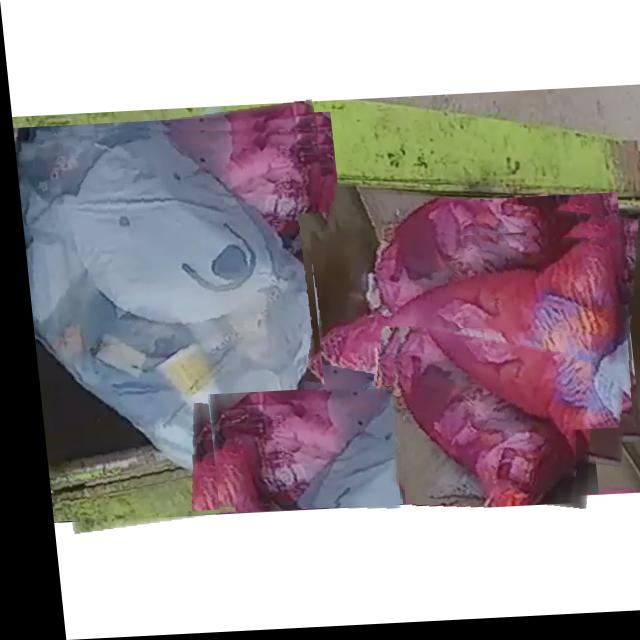other_trashbag: (12, 131, 333, 511), (313, 240, 624, 443), (390, 331, 569, 512), (203, 394, 384, 510), (420, 240, 522, 338)
